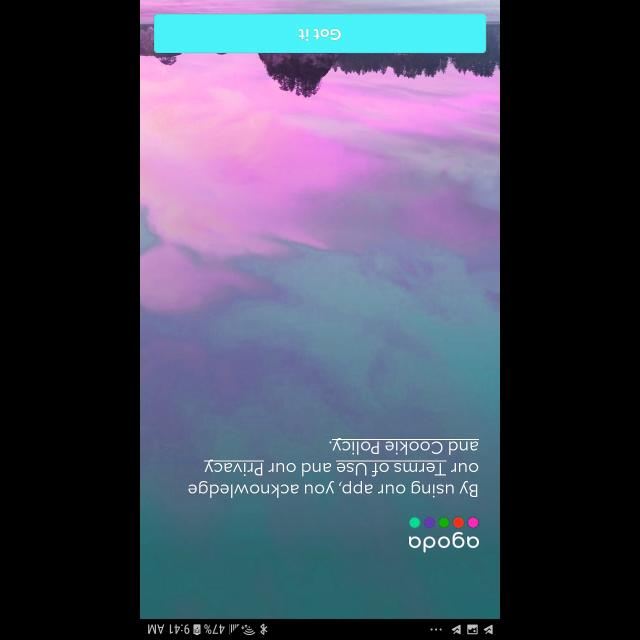backgroundimage: (140, 0, 500, 618)
pageindicator: (409, 516, 479, 528)
text: (188, 438, 480, 498), (408, 531, 479, 553)
textbutton: (154, 14, 486, 54)
uppertaskbar: (140, 618, 500, 640)
